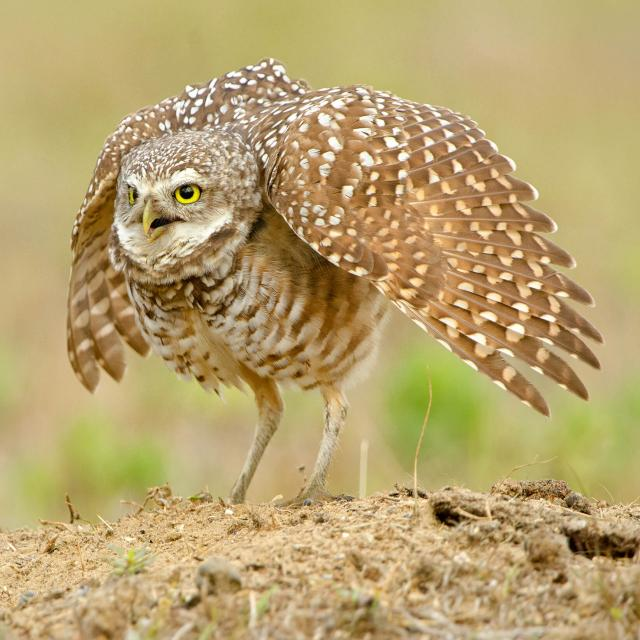owl: (46, 32, 613, 520)
